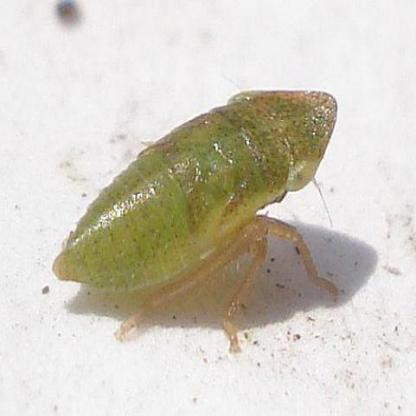green-leafhopper: (54, 82, 338, 341)
